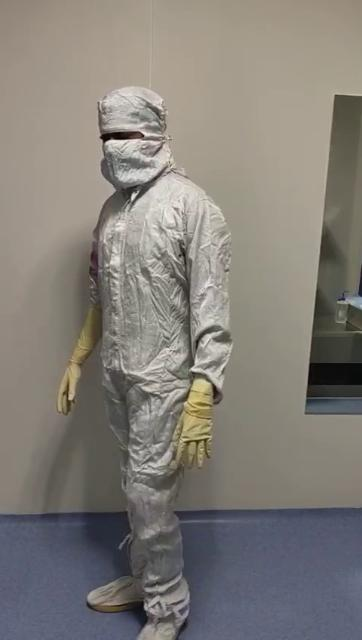boot_not_secured: (134, 555, 215, 639)
gloves_fitted_securely: (42, 284, 120, 438)
gloves_not_fitted_securely: (174, 369, 242, 489)
headgear_secured: (93, 80, 176, 196)
zip_not_secured: (135, 178, 166, 235)
